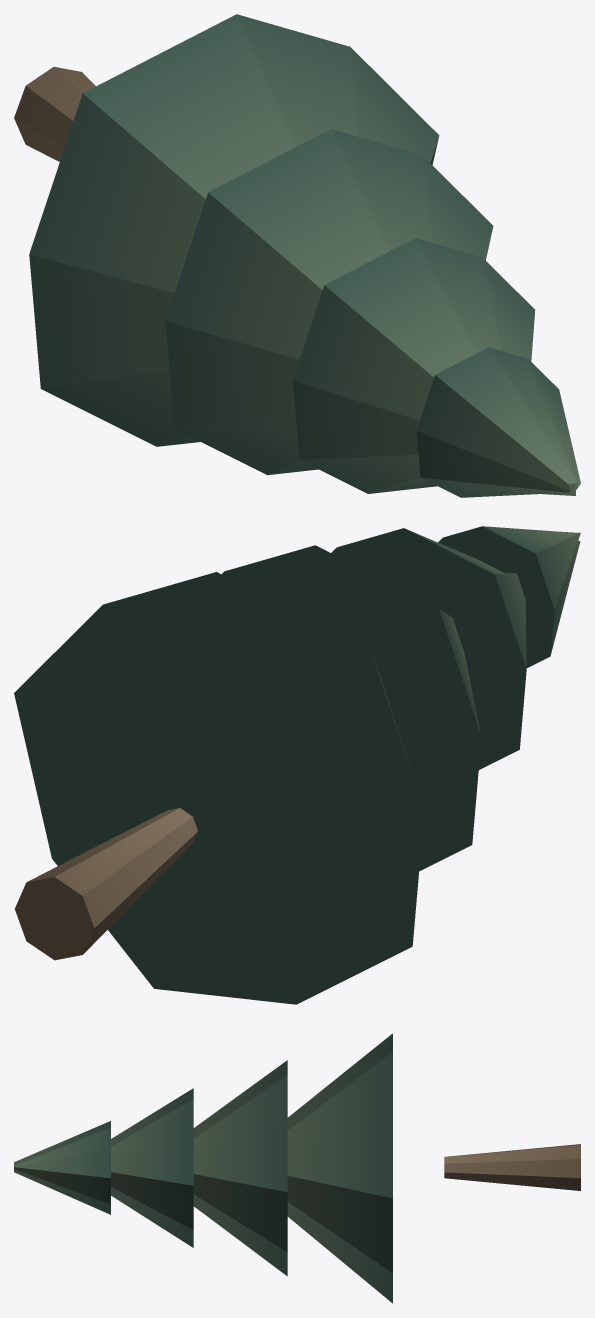
File: tree_pine.glb
3 renders of one model, top to bottom at view 1: azimuth 30°, elevation 25°; view 2: azimuth 150°, elevation 25°; view 3: azimuth 270°, elevation 25°, orthographic. The views are drawn at different scales.
Parts seen in each view (by area): view 1: canopy, trunk; view 2: canopy, trunk; view 3: canopy, trunk.
Part boxes in pixels (x1,y1,x2,y2): canopy: [29, 14, 580, 497]; trunk: [14, 66, 95, 161]; canopy: [14, 526, 580, 1004]; trunk: [15, 808, 197, 960]; canopy: [14, 1033, 392, 1303]; trunk: [444, 1144, 580, 1190].
Size of the model in its own units: 2.27 by 2.28 by 4.98.
